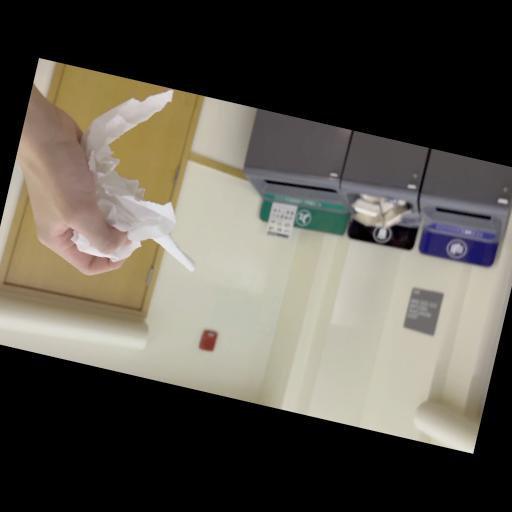napkin: (58, 72, 236, 283)
